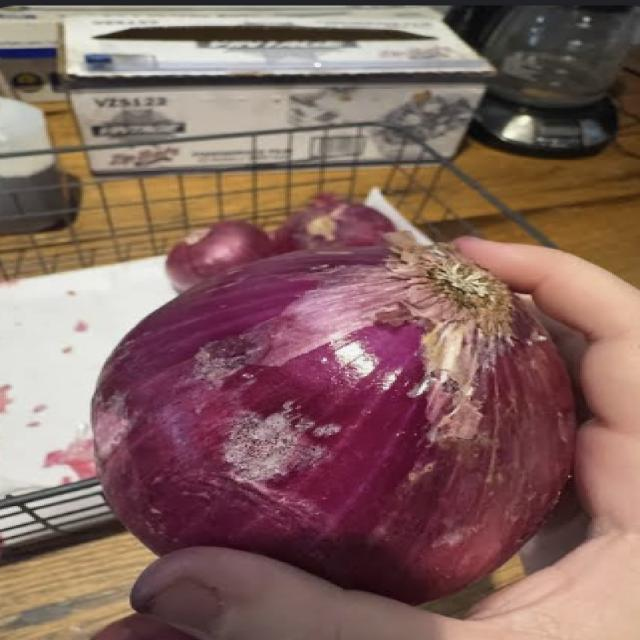mechanical_damage: (92, 234, 570, 602)
